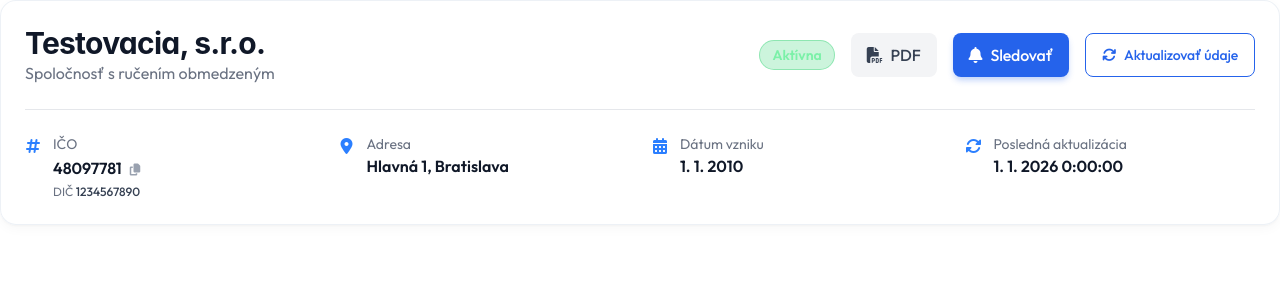
Test: CompanyHeader — obnovenie údajov › names a skipped source instead of leaving it out of the sentence
Click the button "Aktualizovať údaje" at [1170, 55], box [1085,33,1255,77]
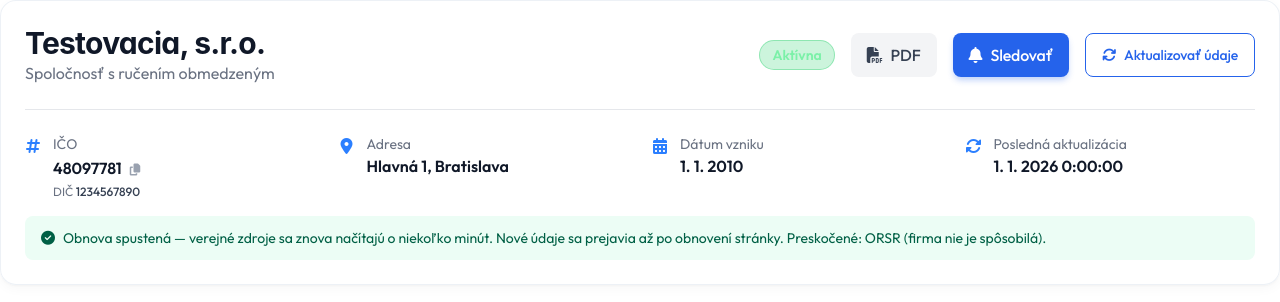
Check: the message shows "Preskočené: ORSR", box [63,229,1046,247]
